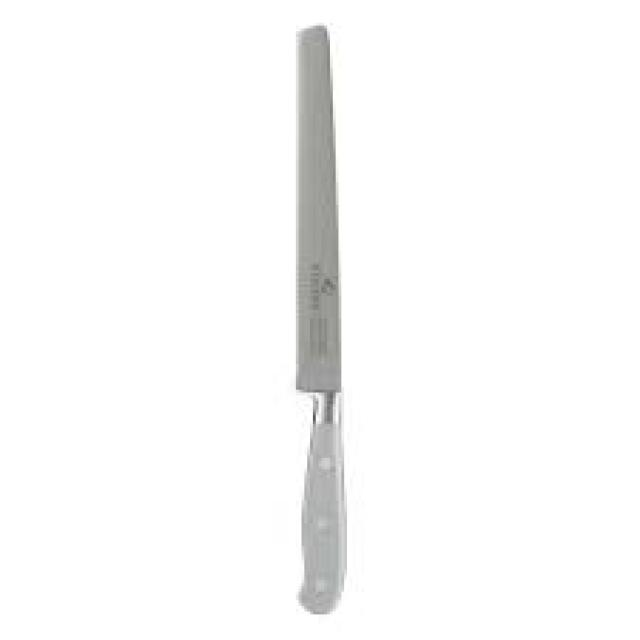Knife: (296, 28, 350, 614)
